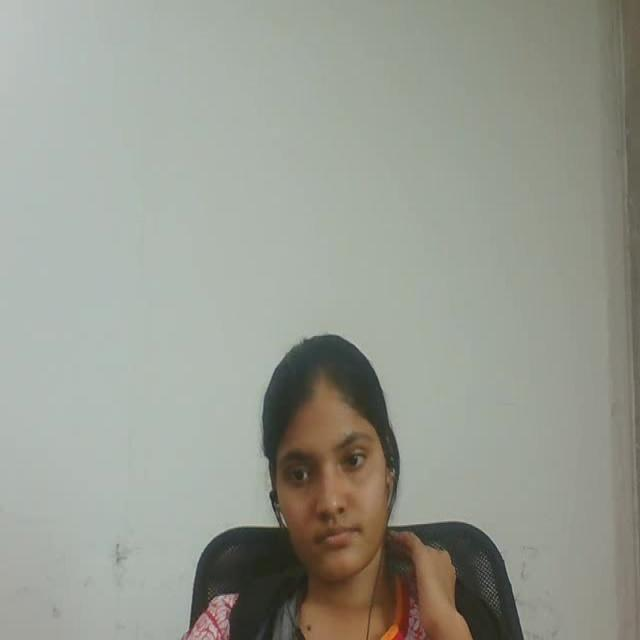Engaged: (236, 317, 432, 600)
